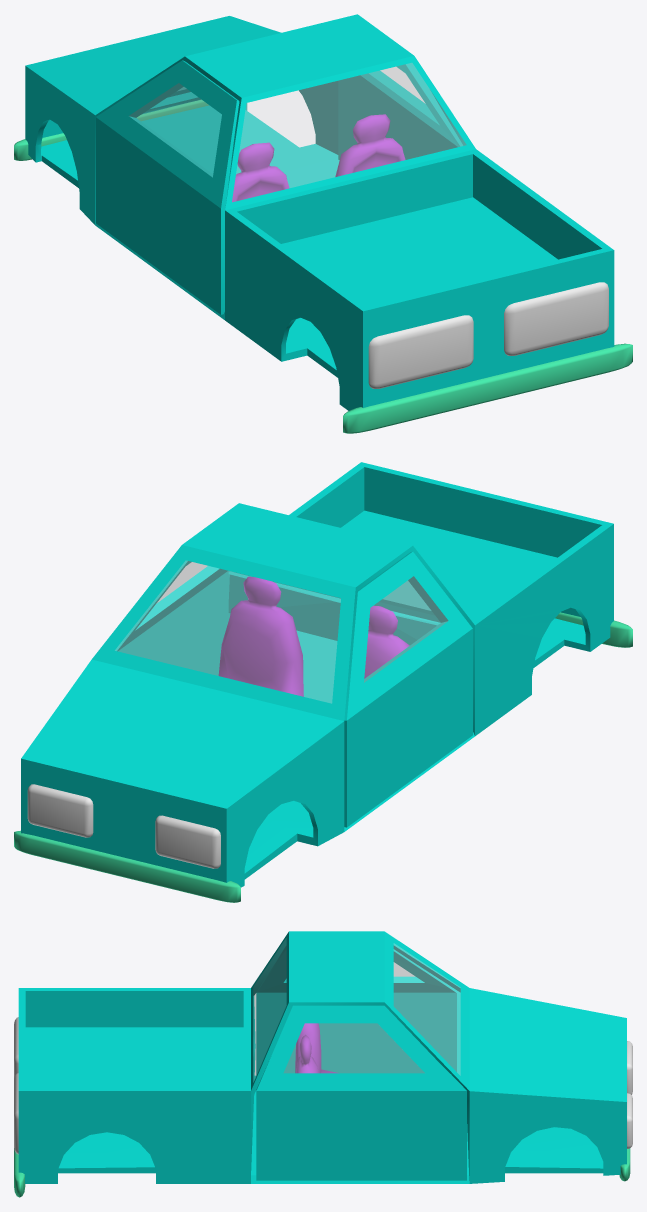
Rendered from car.glb.
3 views of the same model, one above another, from view 1: azimuth 30°, elevation 25°; view 2: azimuth 150°, elevation 25°; view 3: azimuth 270°, elevation 25° (orthographic). The views are drawn at different scales.
Visible parts, largest first — view 1: body, door_l.001, glass_b, bumper_b, door_r.001, light_bl, light_br, door_glass_l, seat_r, seat_l, bumper_f; view 2: body, door_l.001, glass_f, door_r.001, seat_r, bumper_f, door_glass_l, light_fr, light_fl, seat_l, bumper_b, glass_b; view 3: body, door_r.001, door_l.001, door_glass_r, glass_f, glass_b, seat_l, seat_r, light_br.
Boxes of the visible parts, x1,y1,x2,y2 form: body: (25, 14, 614, 410); door_l.001: (96, 60, 239, 314); glass_b: (232, 63, 466, 201); bumper_b: (343, 343, 632, 433); door_r.001: (338, 63, 462, 159); light_bl: (368, 315, 473, 388); light_br: (504, 282, 608, 355); door_glass_l: (129, 83, 221, 177); seat_r: (335, 114, 405, 176); seat_l: (232, 142, 289, 202); bumper_f: (14, 99, 208, 160); body: (21, 462, 613, 887); door_l.001: (344, 551, 472, 827); glass_f: (115, 560, 340, 703); door_r.001: (117, 561, 228, 675); seat_r: (218, 576, 303, 696); bumper_f: (14, 830, 240, 902); door_glass_l: (364, 576, 447, 682); light_fr: (27, 784, 93, 837); light_fl: (155, 815, 220, 868); seat_l: (364, 606, 409, 678); bumper_b: (555, 612, 632, 647); glass_b: (383, 581, 430, 610); body: (18, 931, 626, 1183); door_r.001: (256, 1005, 466, 1180); door_l.001: (256, 943, 460, 1075); door_glass_r: (284, 1023, 424, 1072); glass_f: (394, 943, 460, 1075); glass_b: (253, 938, 286, 1081); seat_l: (295, 1023, 338, 1073); seat_r: (296, 1035, 318, 1073); light_br: (14, 1073, 18, 1154).
Bounding box in the file's own units: 0.3283 × 0.2238 × 0.721.
